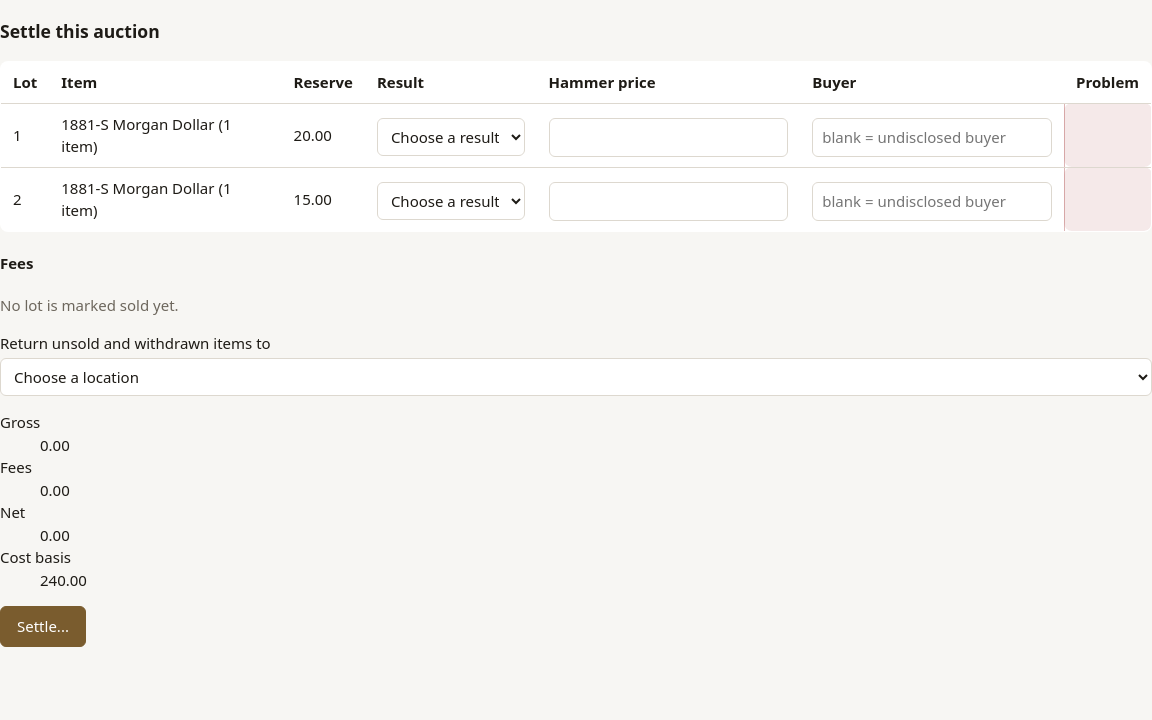
Test: SettlementGrid › sends nothing until a required return location is chosen, and says why
Check: the button "Settle..." is enabled, box [0,606,86,647]
Select "Unsold" in the dropdown named "Result for lot 1". click: (451, 137)
box: [377,118,525,156]
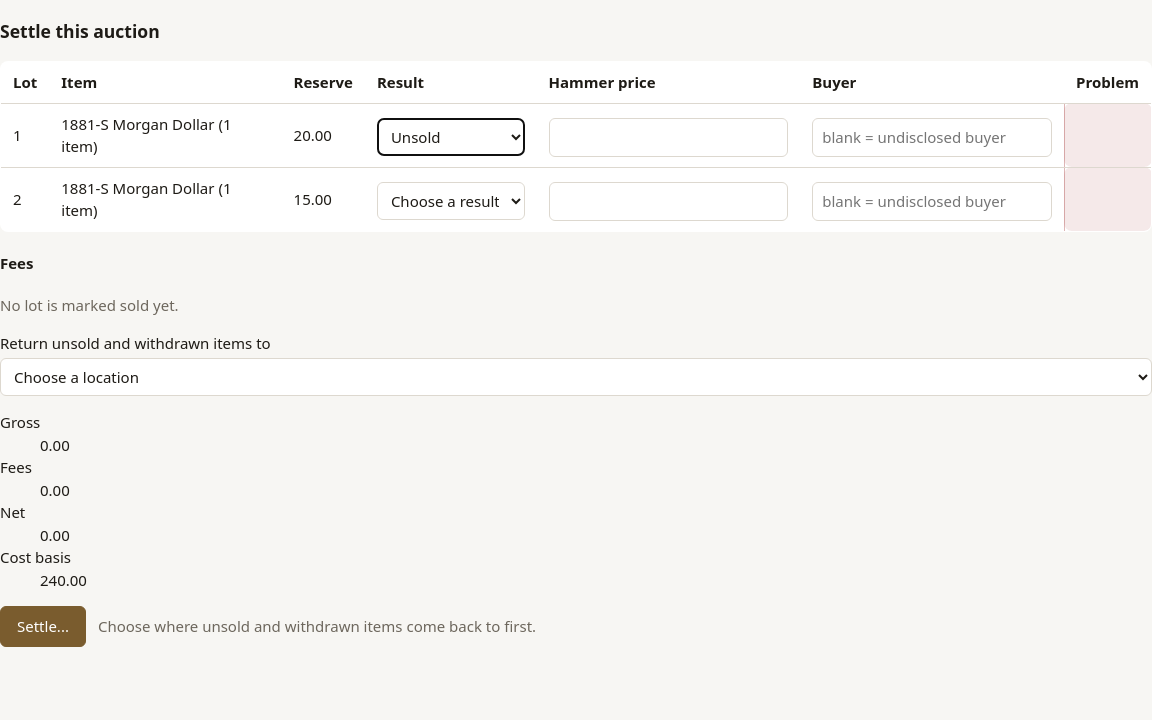
Click the button "Settle...". click: (43, 627)
box: [0,606,86,647]
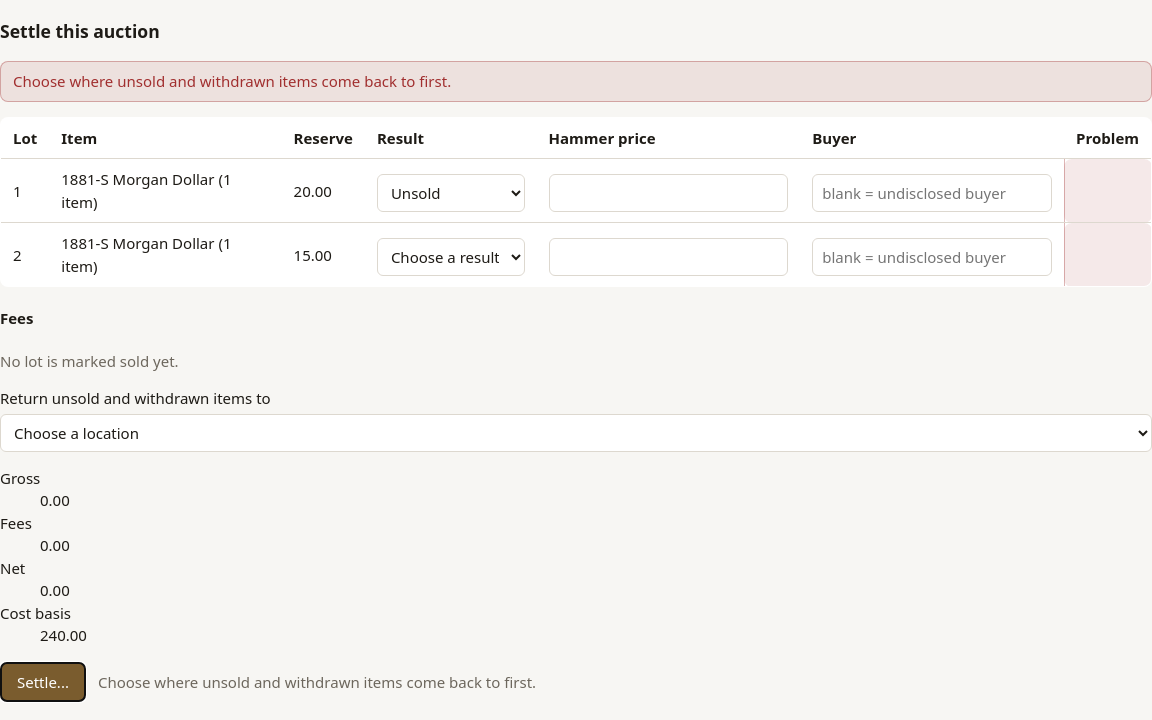
Select "Home safe" in the dropdown labelled "Return unsold and withdrawn items to". click: (576, 433)
box: [0,414,1151,452]
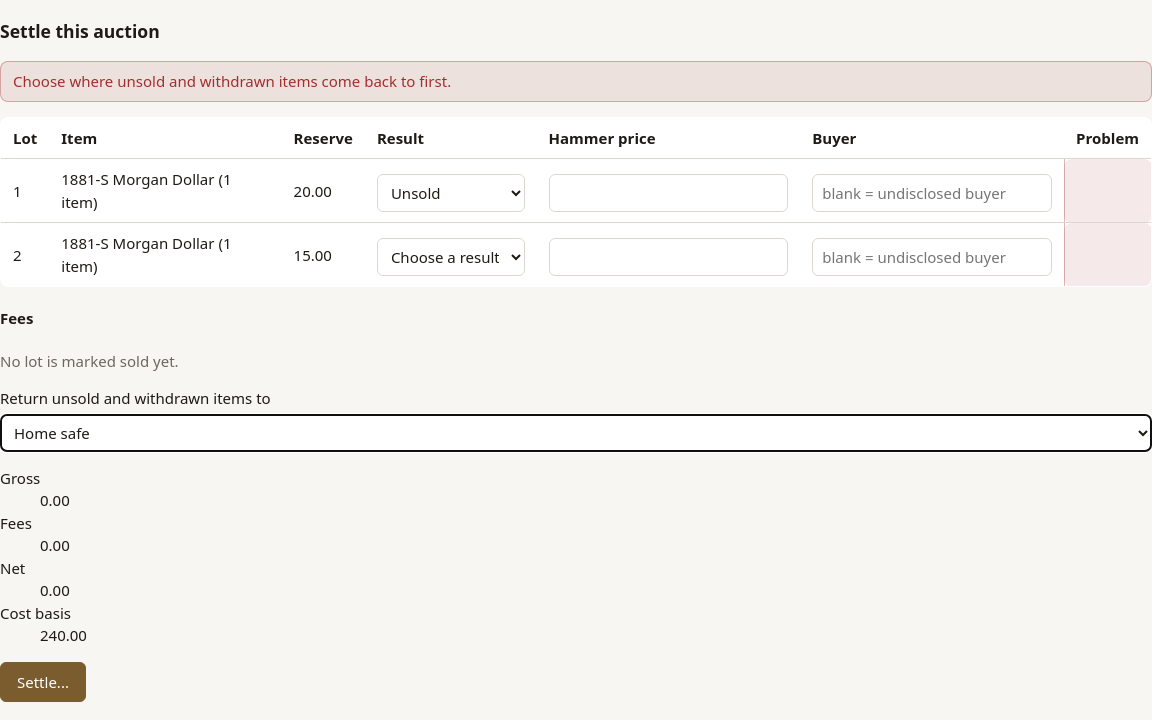
Click the button "Settle...". click: (43, 682)
box: [0,662,86,702]
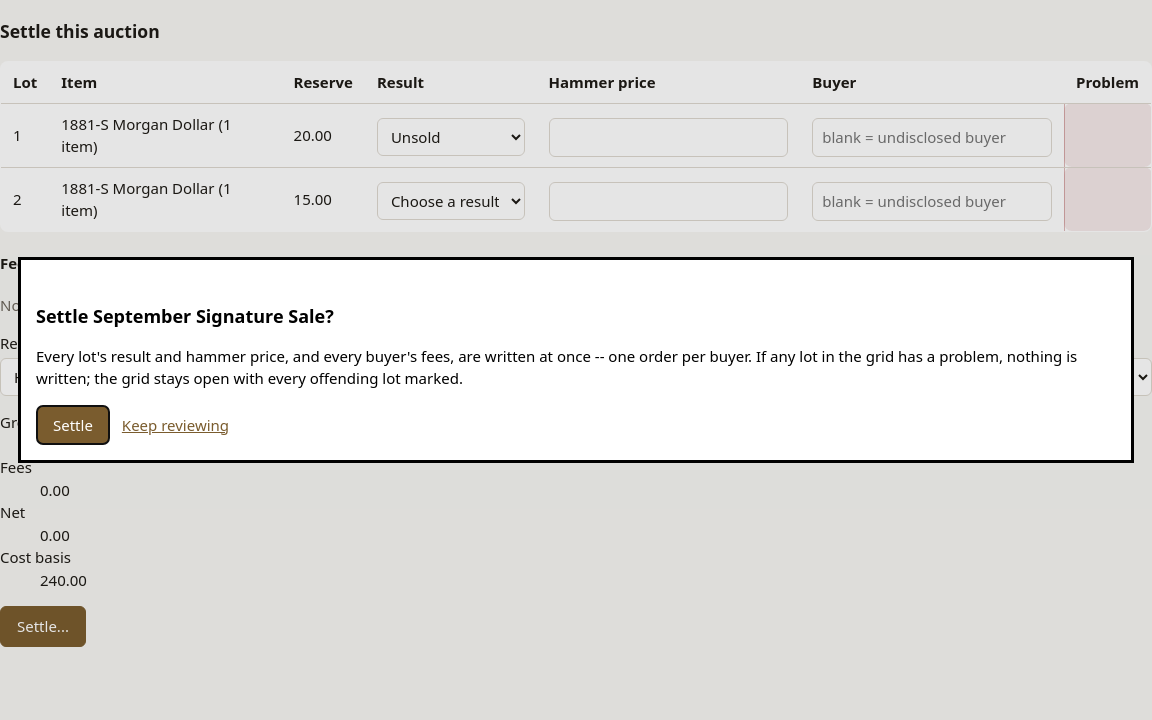
Check: the button "Settle" is enabled, box [36,405,110,445]
